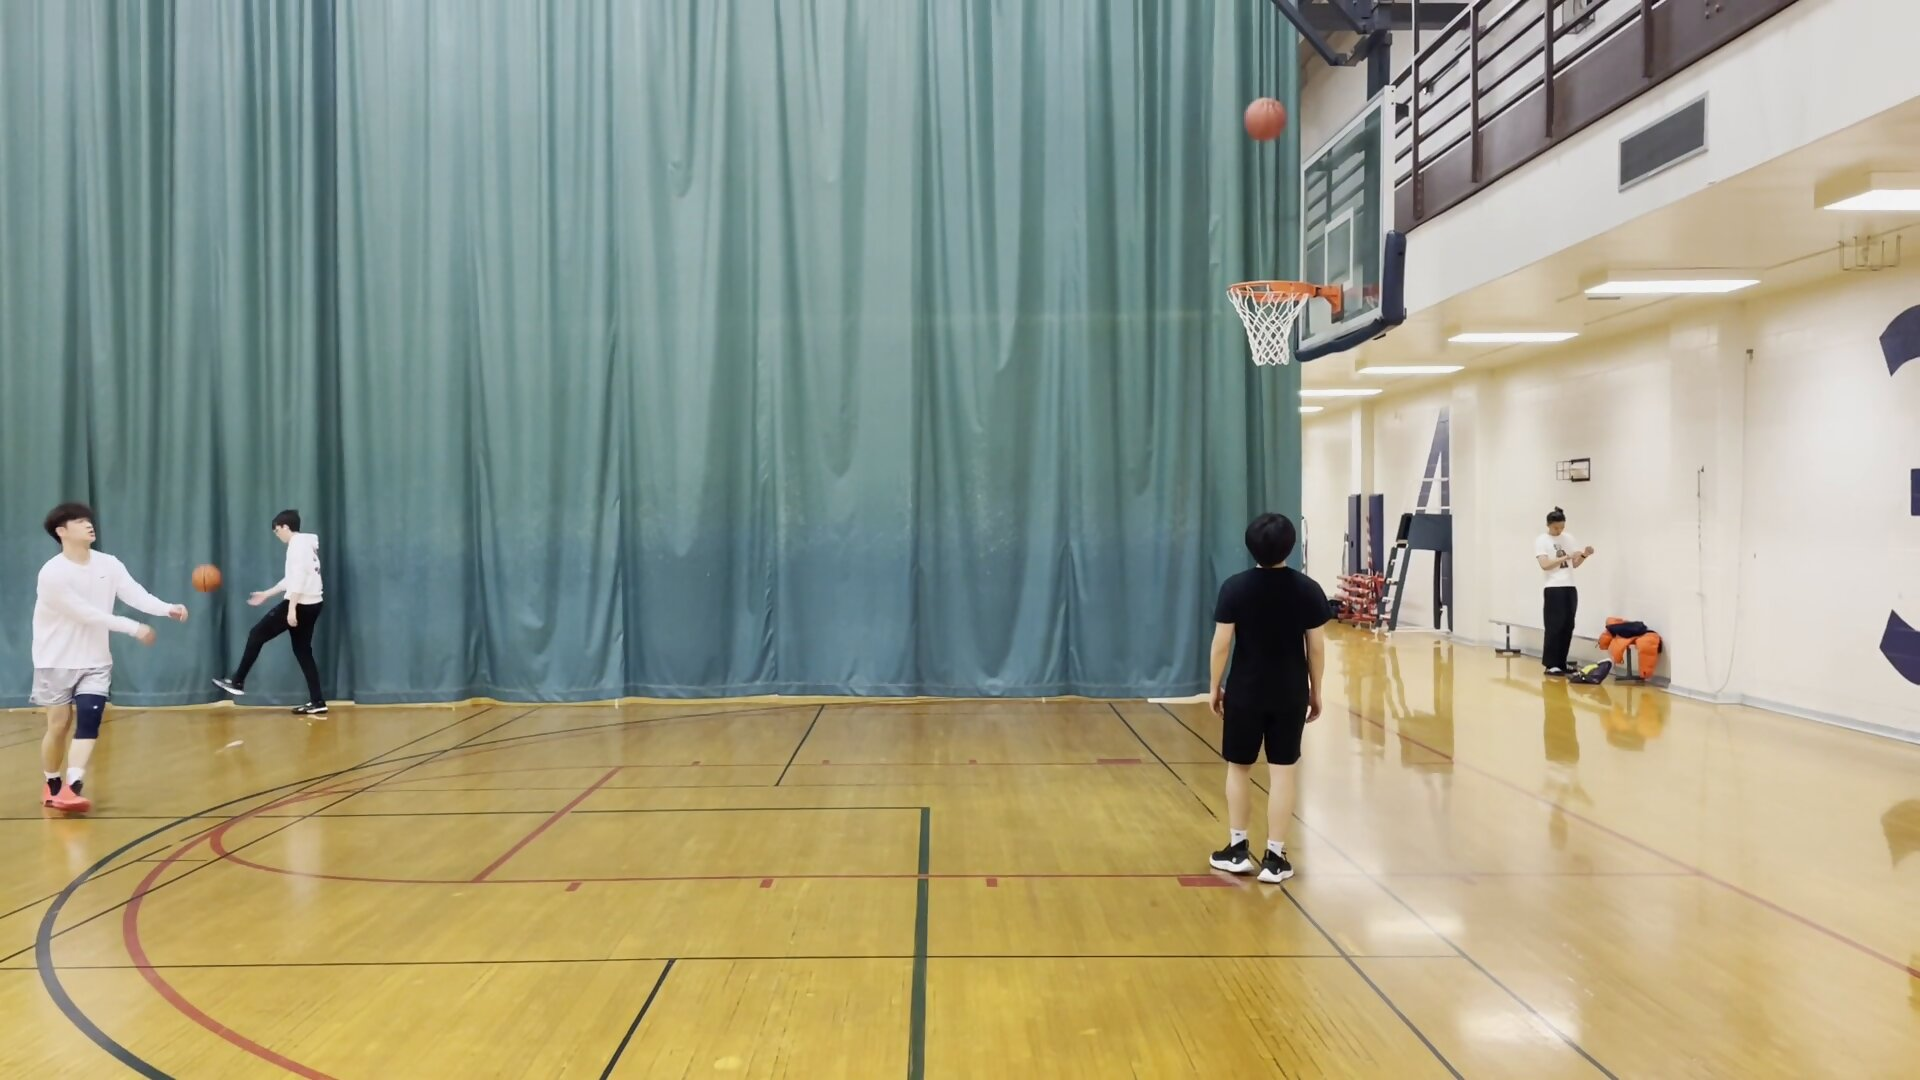ball: (1235, 96, 1301, 148), (188, 560, 230, 596)
net: (1239, 340, 1300, 373)
player: (1195, 510, 1331, 892), (25, 497, 183, 816), (216, 510, 341, 721), (1531, 500, 1596, 684)
rim: (1221, 274, 1331, 306)
